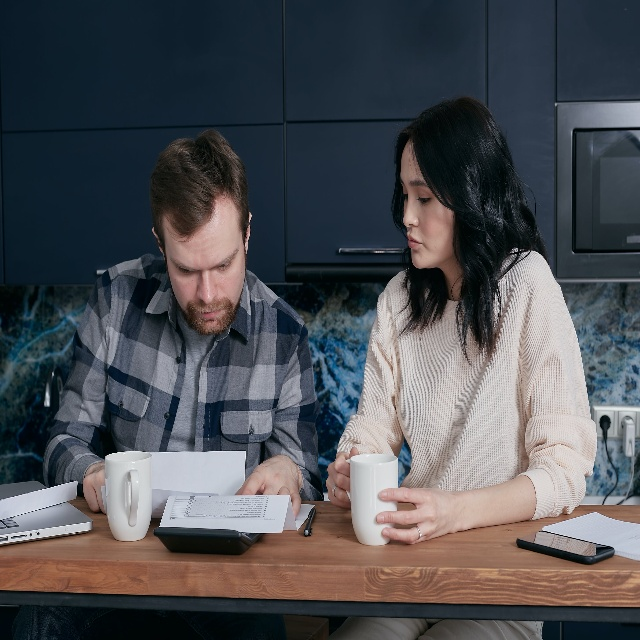Sin_guantes: (373, 479, 453, 545), (233, 451, 303, 521), (325, 443, 359, 509), (82, 459, 107, 512)
